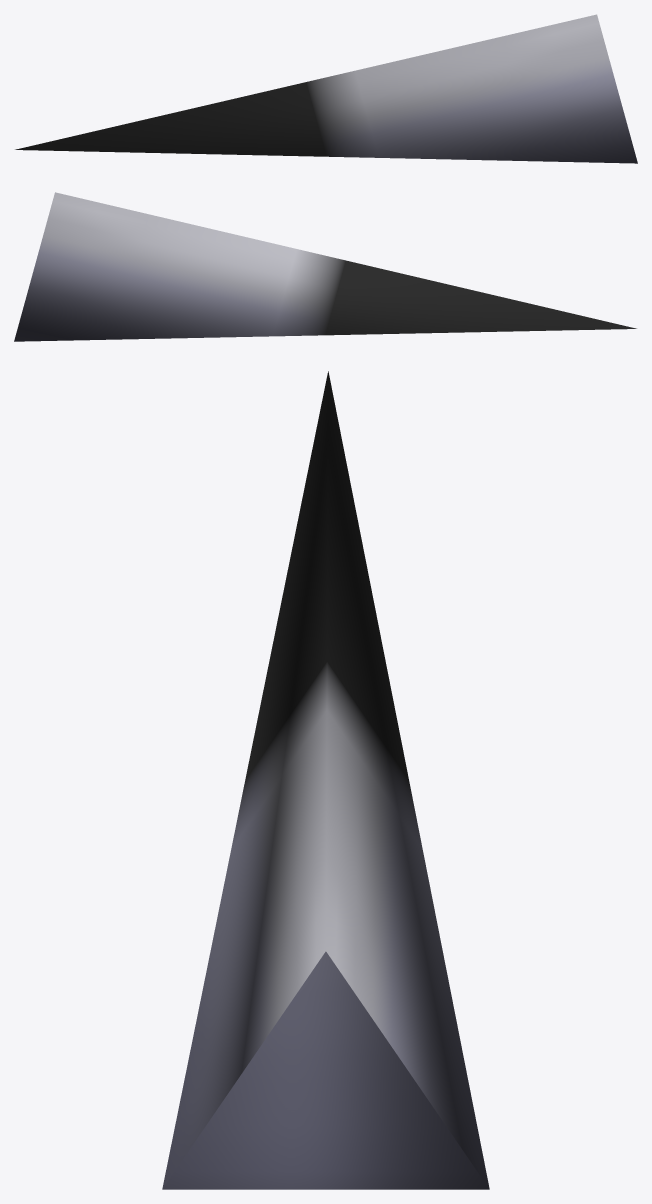
Rendered from shaft_classic_LRe_lod.dae.
3 renders of one model, top to bottom at view 1: azimuth 30°, elevation 25°; view 2: azimuth 150°, elevation 25°; view 3: azimuth 270°, elevation 25°, orthographic. The views are drawn at different scales.
Visible parts, largest first — view 1: _0_0_node; view 2: _0_0_node; view 3: _0_0_node.
Boxes of the visible parts, x1,y1,x2,y2 form: _0_0_node: [15, 14, 637, 163]; _0_0_node: [14, 192, 636, 341]; _0_0_node: [162, 371, 489, 1189].
Bounding box in the file's own units: 5.89 × 1.21 × 1.43.
1 material, 1 textured.
